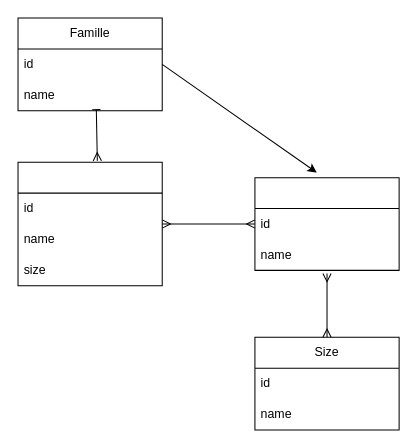
This 417x448 diagram has some shape labels left out. Each missing label, with the box of its shape:
Catégorie: (17, 161, 162, 286)
Product: (254, 177, 399, 270)
